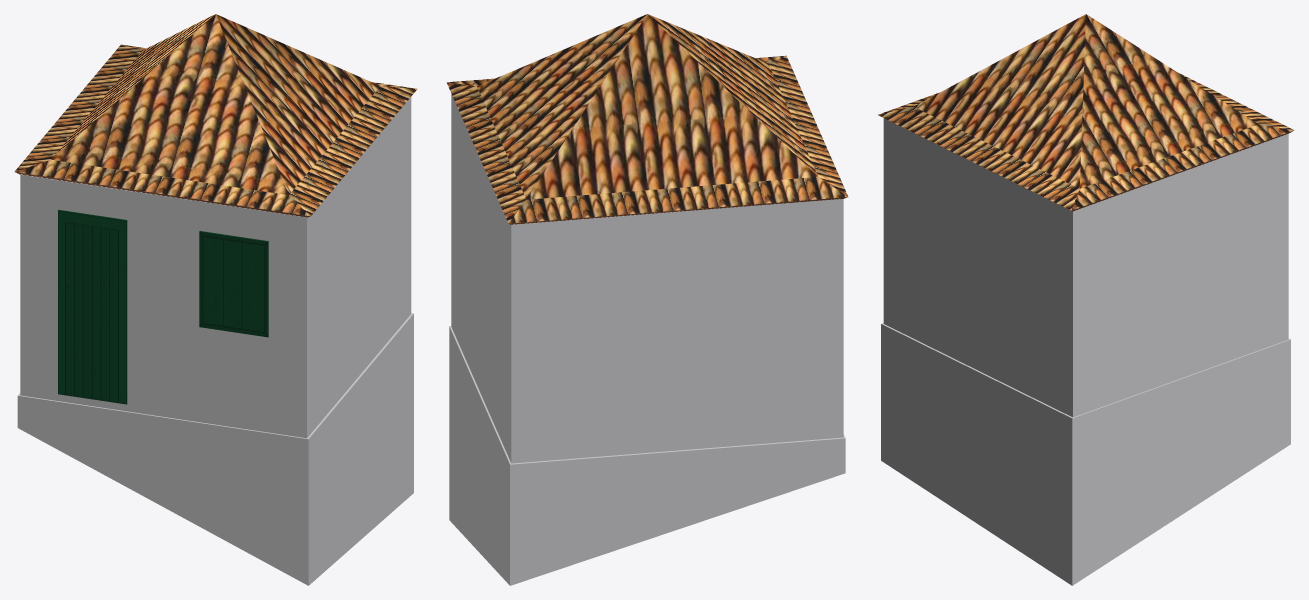
Rendered from Casa_BatNorte 2.fbx.
3 views of the same model, side by side, from view 1: azimuth 30°, elevation 25°; view 2: azimuth 150°, elevation 25°; view 3: azimuth 270°, elevation 25° (orthographic). The views are drawn at different scales.
Parts seen in each view (by area): view 1: Casa_BatNorte; view 2: Casa_BatNorte; view 3: Casa_BatNorte.
Part boxes in pixels (x1,y1,x2,y2): Casa_BatNorte: (14,14,417,585); Casa_BatNorte: (446,14,848,585); Casa_BatNorte: (878,14,1294,585).
Size of the model in its own units: 552 by 551 by 707.
Materials: 5 (4 with a texture image).
